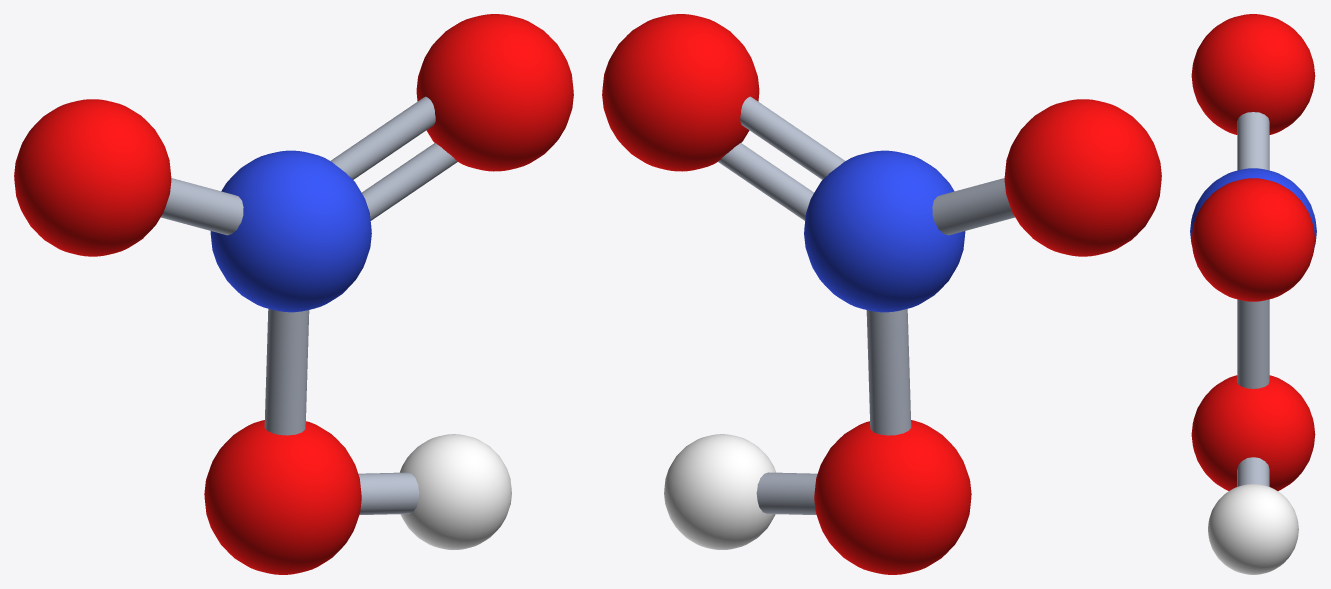
Rendered from hno3.glb.
3 views of the same model, side by side, from view 1: azimuth 30°, elevation 25°; view 2: azimuth 150°, elevation 25°; view 3: azimuth 270°, elevation 25° (orthographic). The views are drawn at different scales.
Visible parts, largest first — view 1: O (×3), N, bond (×5), H; view 2: O (×3), N, bond (×5), H; view 3: O (×3), H, bond (×3), N.
Boxes of the visible parts, x1=… form: O (×3): x1=14, y1=14, x2=573, y2=574; N: x1=210, y1=150, x2=371, y2=312; bond (×5): x1=161, y1=96, x2=457, y2=514; H: x1=400, y1=434, x2=511, y2=550; O (×3): x1=602, y1=14, x2=1161, y2=574; N: x1=804, y1=150, x2=965, y2=312; bond (×5): x1=718, y1=96, x2=1014, y2=514; H: x1=664, y1=434, x2=775, y2=549; O (×3): x1=1191, y1=14, x2=1315, y2=490; H: x1=1208, y1=484, x2=1298, y2=574; bond (×3): x1=1237, y1=112, x2=1269, y2=486; N: x1=1190, y1=168, x2=1316, y2=247.
Size of the model in its own units: 0.22 by 0.2053 by 0.0572.
